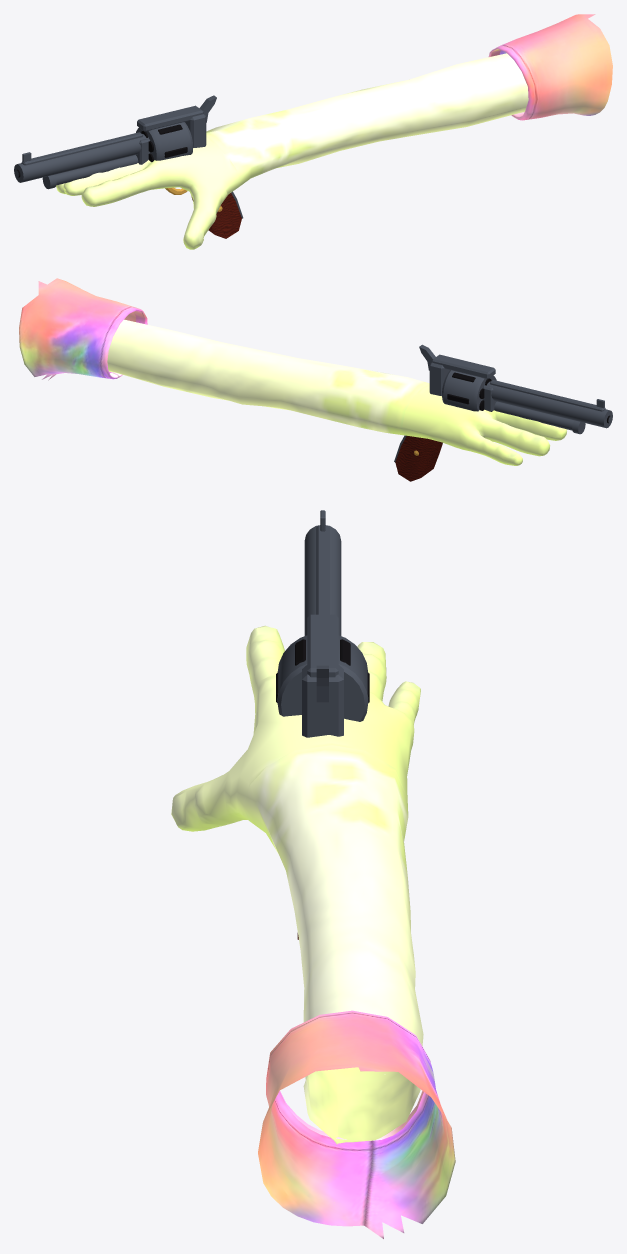
The model's file is tb_exec_arm.glb.
The picture shows the model from 3 angles, top to bottom: view 1: azimuth 30°, elevation 25°; view 2: azimuth 150°, elevation 25°; view 3: azimuth 270°, elevation 25°; orthographic projection. The views are drawn at different scales.
Visible parts, largest first — view 1: exec_arm; view 2: exec_arm; view 3: exec_arm.
Part boxes in pixels (x1=…): exec_arm: x1=14, y1=14, x2=612, y2=249; exec_arm: x1=19, y1=278, x2=612, y2=481; exec_arm: x1=171, y1=510, x2=455, y2=1238.
Size of the model in its own units: 1.04 by 0.2338 by 0.2277.
Materials: 6 (3 with a texture image).
